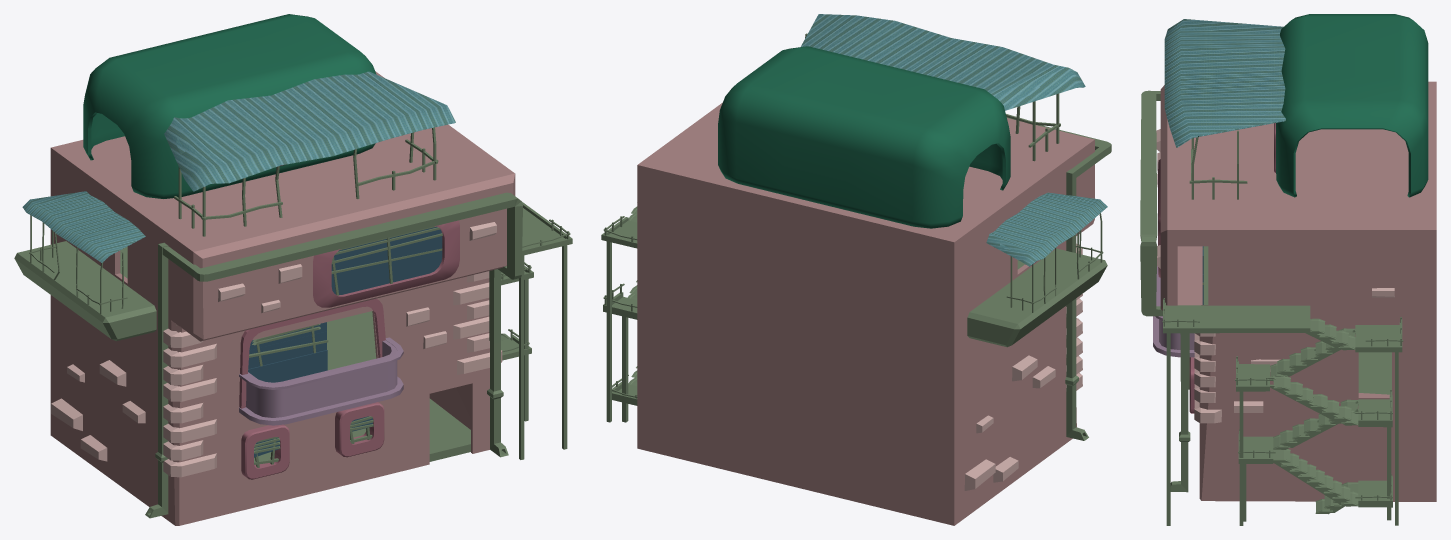
The model's file is SM_House4.fbx.
3 views of the same model, side by side, from view 1: azimuth 30°, elevation 25°; view 2: azimuth 150°, elevation 25°; view 3: azimuth 270°, elevation 25° (orthographic). The views are drawn at different scales.
Visible parts, largest first — view 1: SM_House4; view 2: SM_House4; view 3: SM_House4.
Part boxes in pixels (x1=…): SM_House4: x1=14, y1=14, x2=572, y2=525; SM_House4: x1=601, y1=14, x2=1111, y2=525; SM_House4: x1=1140, y1=14, x2=1436, y2=525.
Size of the model in its own units: 1782 by 1106 by 1474.
1 material, 1 textured.
